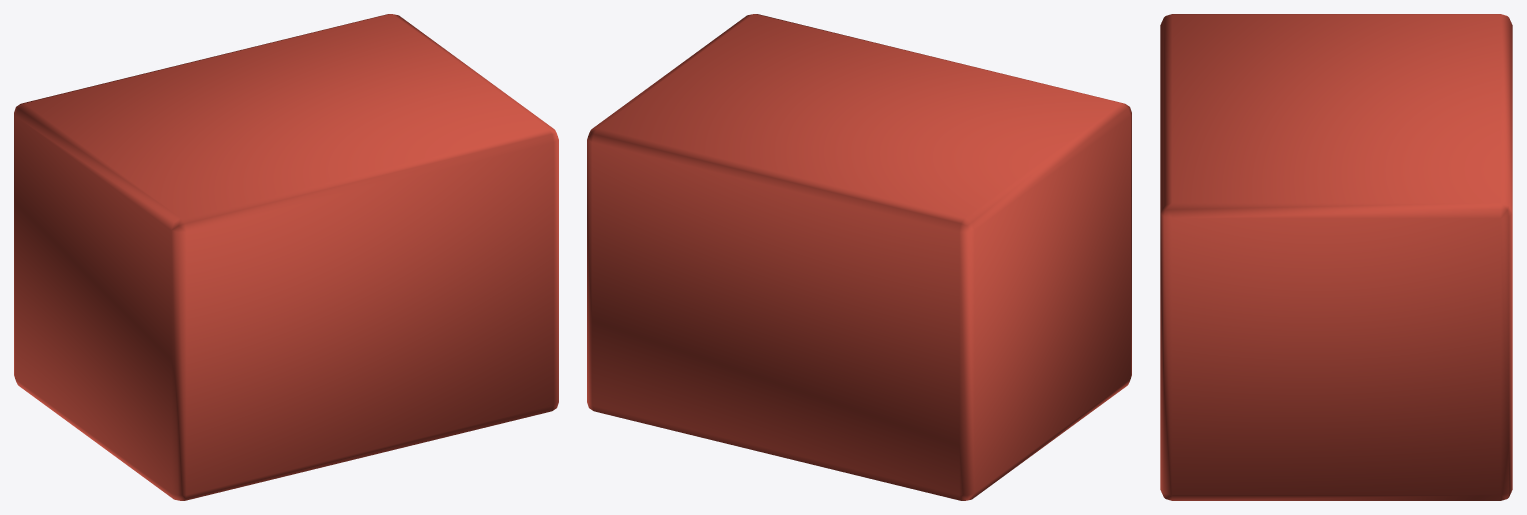
Rendered from beer_crate.glb.
3 views of the same model, side by side, from view 1: azimuth 30°, elevation 25°; view 2: azimuth 150°, elevation 25°; view 3: azimuth 270°, elevation 25° (orthographic). The views are drawn at different scales.
Parts seen in each view (by area): view 1: Crate; view 2: Crate; view 3: Crate.
Part boxes in pixels (left/top/right/bottom): Crate: left=14, top=14, right=558, bottom=500; Crate: left=587, top=14, right=1131, bottom=500; Crate: left=1160, top=14, right=1512, bottom=500.
Bounding box in the file's own units: 0.4 × 0.28 × 0.3.
